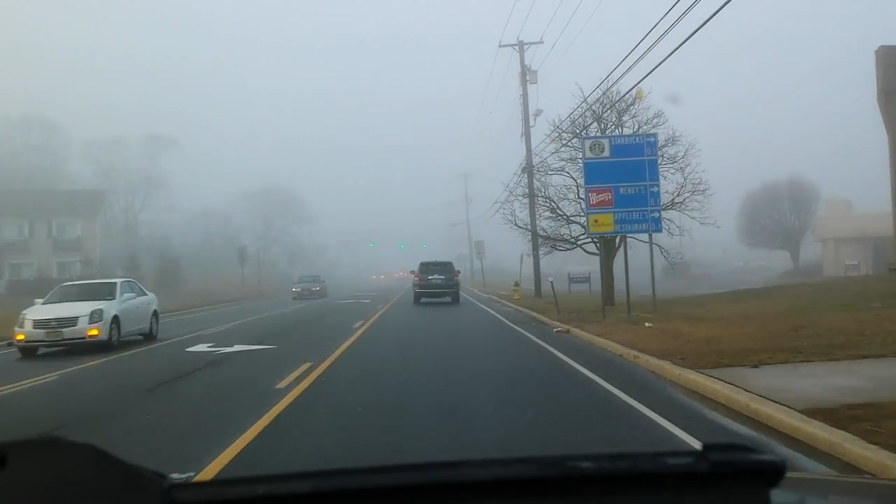car: (10, 278, 164, 354), (408, 260, 462, 307), (289, 273, 327, 299)
